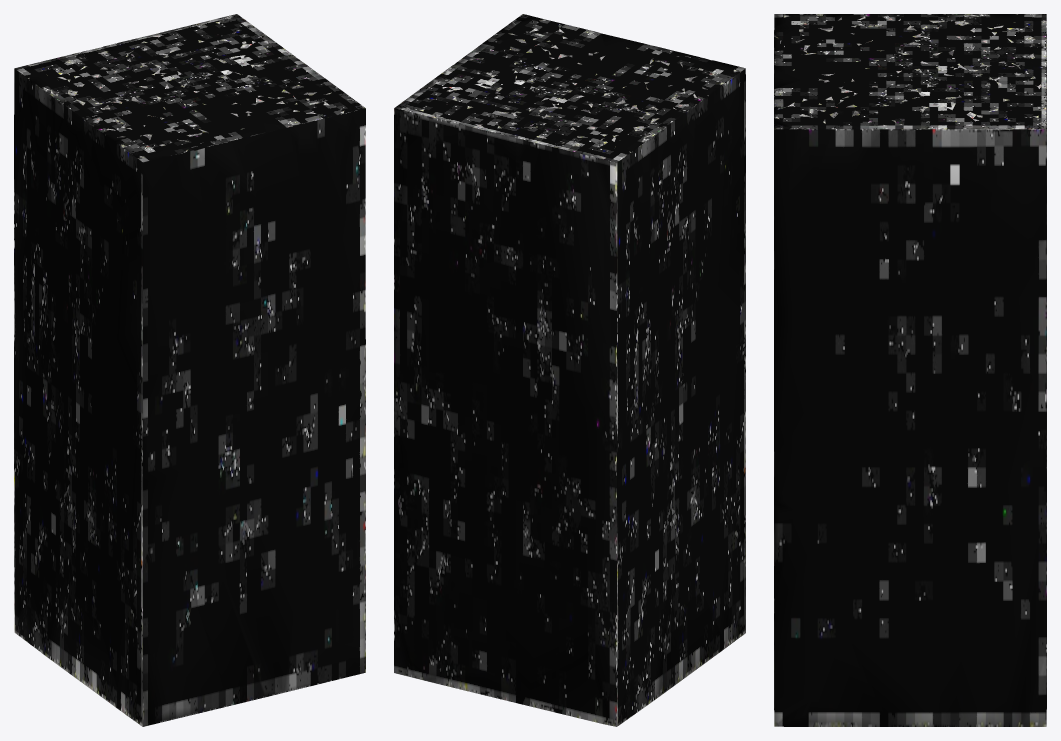
File: olive-tree.glb
The picture shows the model from 3 angles, left to right: view 1: azimuth 30°, elevation 25°; view 2: azimuth 150°, elevation 25°; view 3: azimuth 270°, elevation 25°; orthographic projection. The views are drawn at different scales.
Parts seen in each view (by area): view 1: olive-tree-normalized; view 2: olive-tree-normalized; view 3: olive-tree-normalized.
Boxes of the visible parts, x1,y1,x2,y2 form: olive-tree-normalized: (14, 14, 365, 726); olive-tree-normalized: (394, 14, 745, 726); olive-tree-normalized: (774, 14, 1046, 726).
Size of the model in its own units: 0.62 by 1.5 by 0.62.
Materials: 1 (1 with a texture image).
